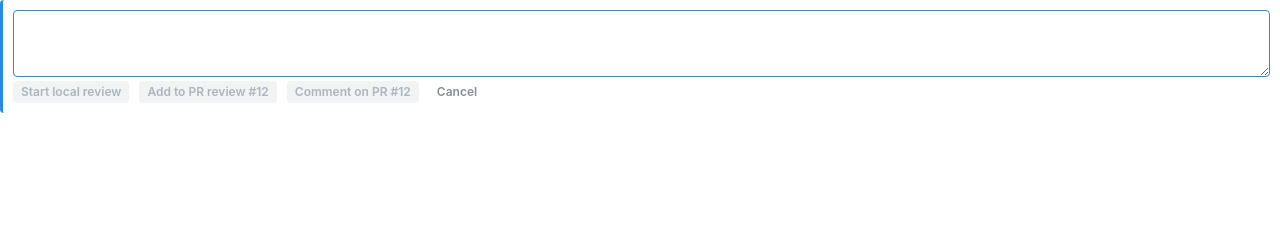
Test case: NewCommentCard › with a PR › the PR review button names a stale pending review when it can't be added to
Type "x" into the text box at (642, 43), box [13,10,1270,77]
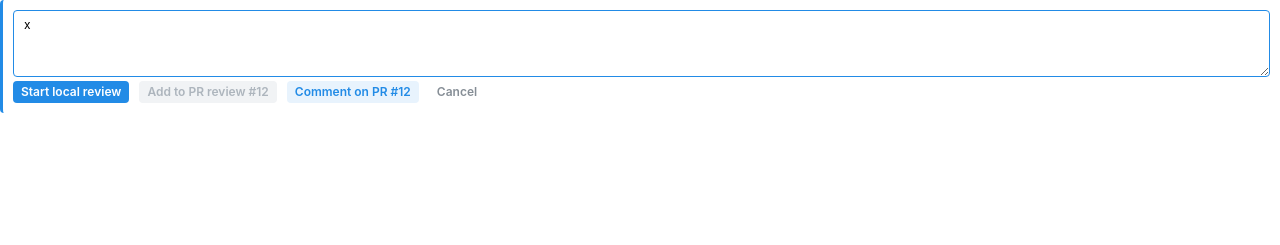
Hover over the button "Add to PR review #12" at (208, 92), box [139,81,277,103]
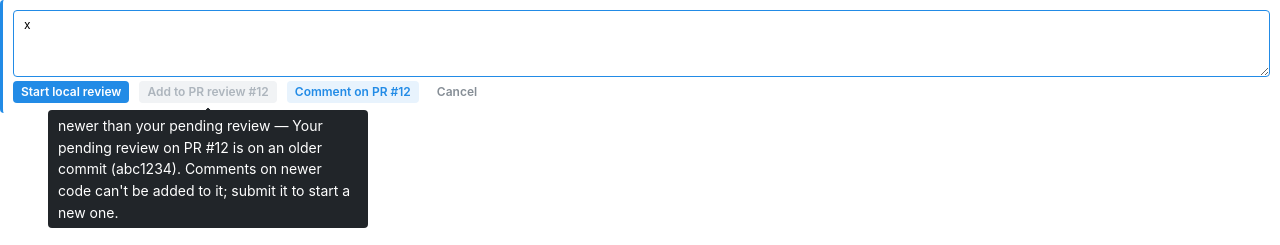
Expected: the tooltip "newer than your pending review — Your pending review on PR #12 is on an older commit (abc1234). Comments on newer code c" is shown, [58,117,350,221]
